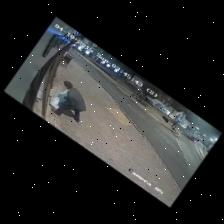person: (53, 81, 86, 122)
